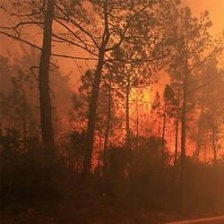fire: (77, 16, 224, 172)
